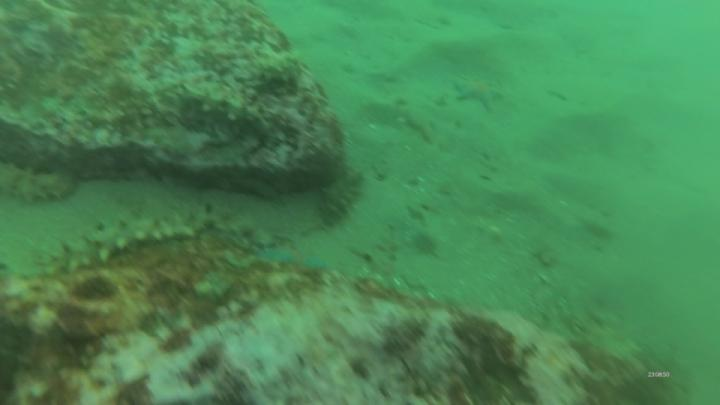holothurian: (42, 208, 210, 272), (181, 87, 273, 138), (1, 162, 80, 207), (318, 162, 367, 228), (250, 47, 305, 89)
starfish: (257, 238, 335, 277), (458, 78, 506, 111)
